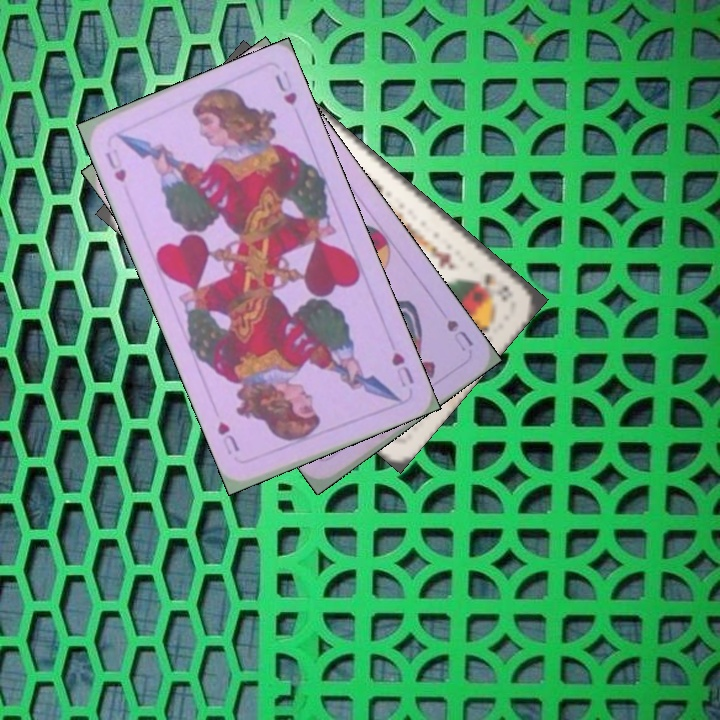HU: (387, 348, 417, 390), (101, 147, 129, 185)
SK: (479, 268, 516, 305)
SU: (442, 315, 476, 354)
